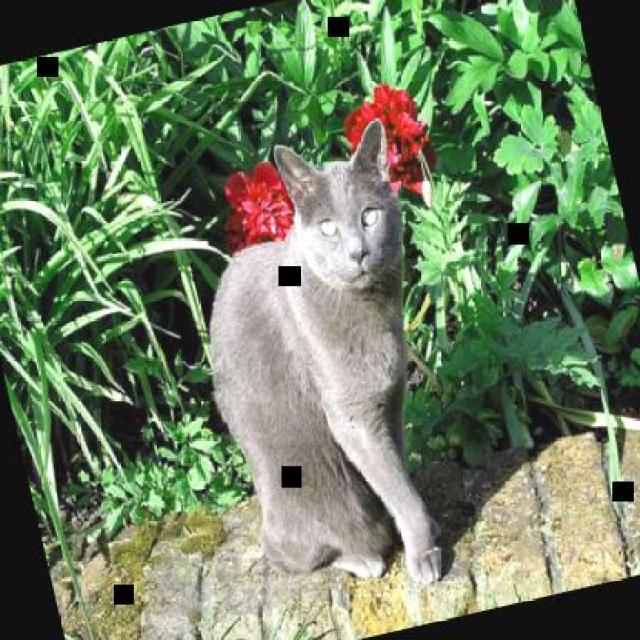cat: (162, 117, 488, 621)
